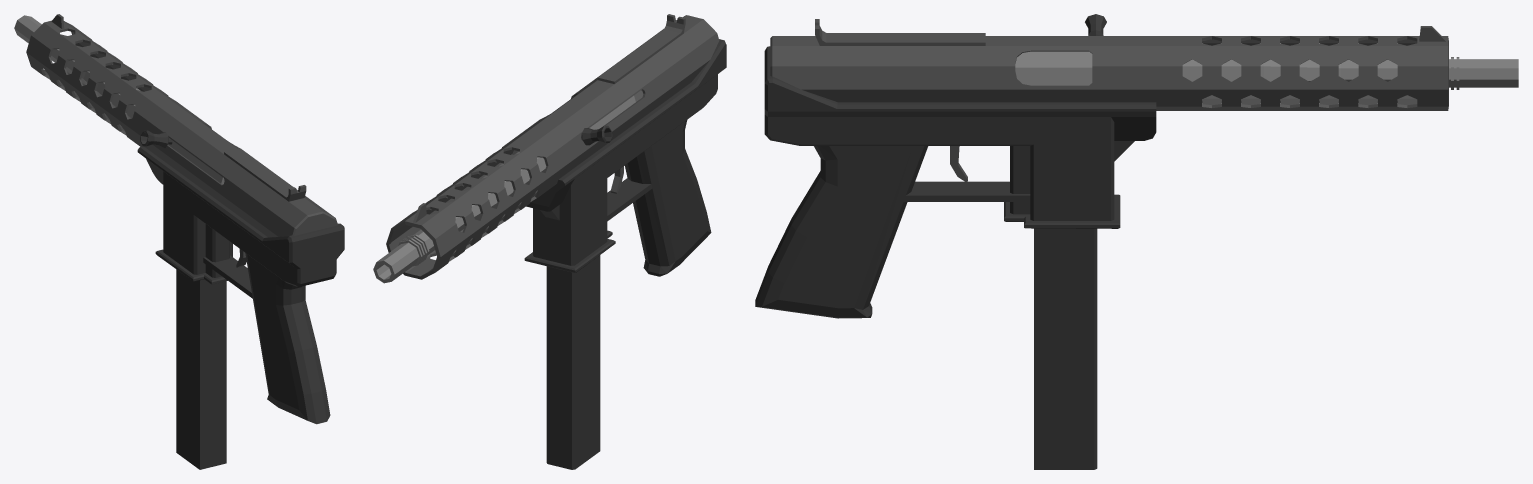
The model's file is Tec-9.fbx.
3 renders of one model, left to right at view 1: azimuth 30°, elevation 25°; view 2: azimuth 150°, elevation 25°; view 3: azimuth 270°, elevation 25°, orthographic. The views are drawn at different scales.
Parts seen in each view (by area): view 1: Tec_9, Magazin, Bolt; view 2: Tec_9, Magazin, Bolt; view 3: Tec_9, Magazin, Bolt.
Part boxes in pixels (x1,y1,x2,y2): Tec_9: [14, 14, 344, 424]; Magazin: [176, 269, 226, 469]; Bolt: [140, 130, 224, 184]; Tec_9: [373, 14, 726, 283]; Magazin: [546, 255, 600, 469]; Bolt: [581, 95, 635, 145]; Tec_9: [755, 19, 1518, 318]; Magazin: [1034, 228, 1097, 469]; Bolt: [1015, 14, 1106, 85].
Bounding box in the file's own units: 96.36 × 420 × 665.
1 material, 1 textured.
